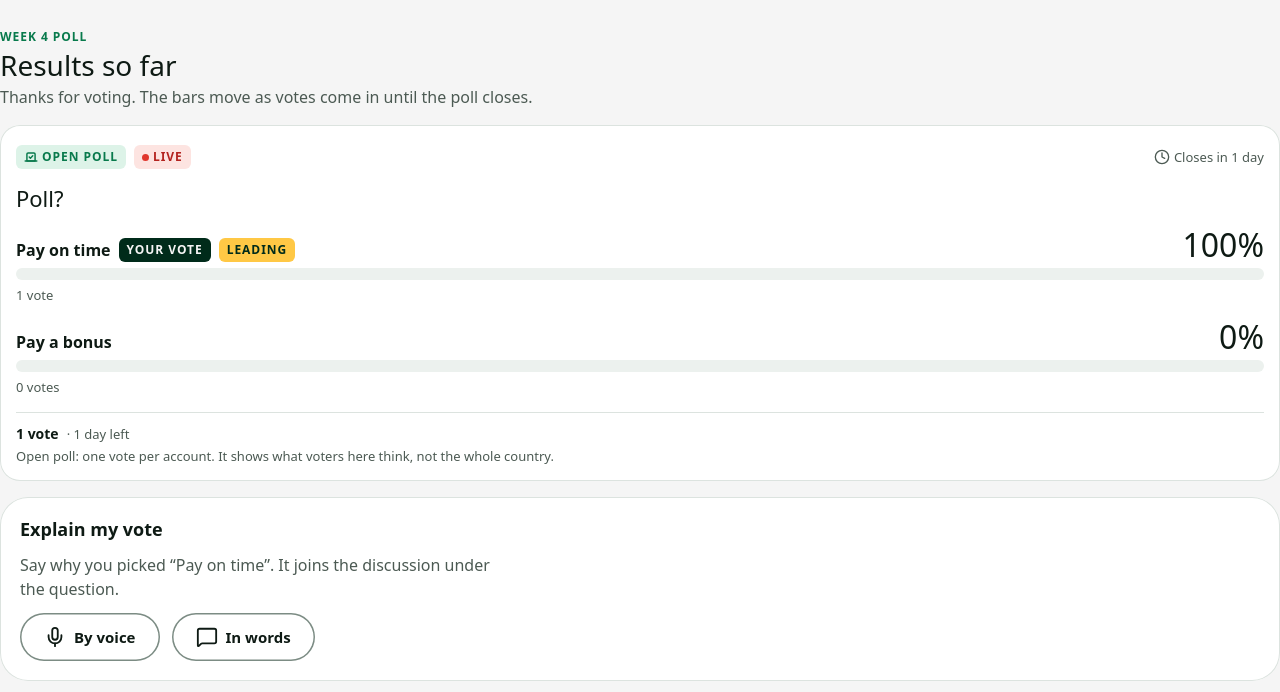
Test: G9: Explain my vote keeps the word the person already gave › says the word is needed only when there is none to find
The width and height of the screenshot is (1280, 692).
(page scrolled)
Expected: the heading "Explain my vote" is shown, [20, 517, 163, 541]
Click the button "In words": (243, 637) [172, 613, 315, 661]
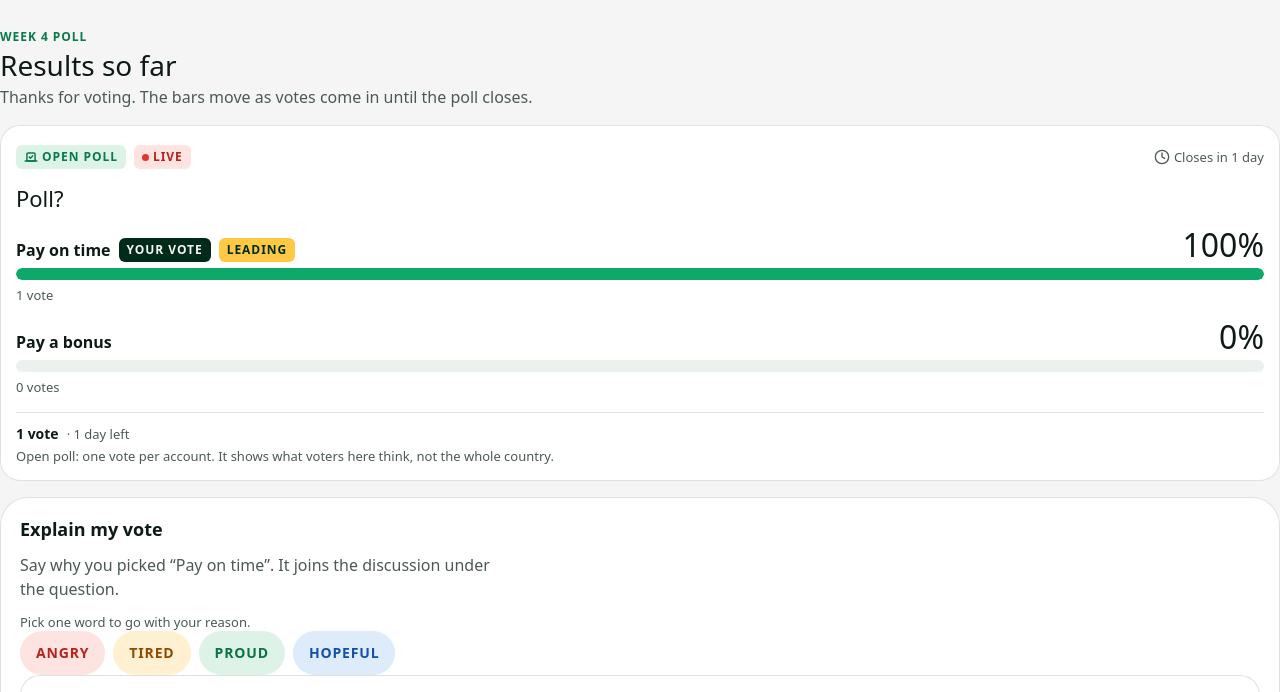
Expected: the text "Pick one word to go with your reason." is shown, [20, 613, 250, 631]
